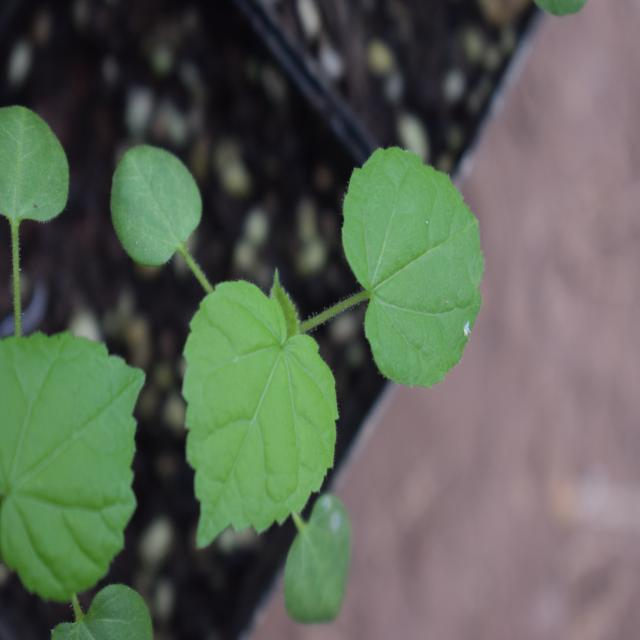abutilon theophrasti: (99, 120, 493, 604)
